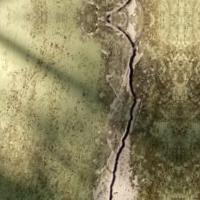crack: (85, 0, 173, 199)
